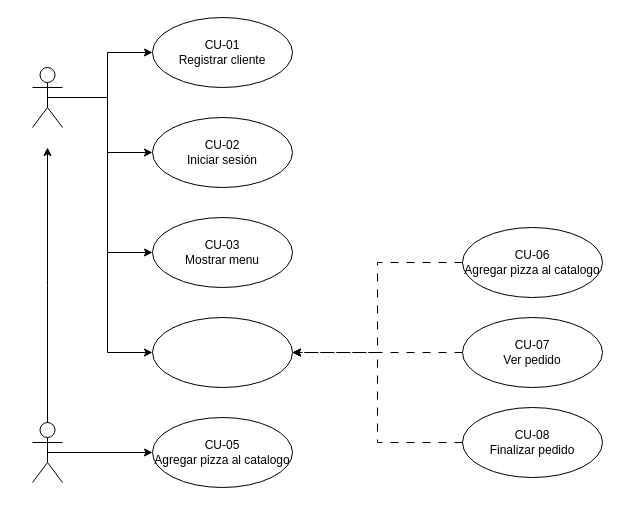
Some shapes in this 620 by 521 pixel diagram are drawn without their labels. The centre of each missing label's shape, as x and y in pixels:
"Cliente" goes at point 47,97.
"Cliente VIP" goes at point 47,452.
"CU-04 Iniciar pedido" goes at point 222,352.
